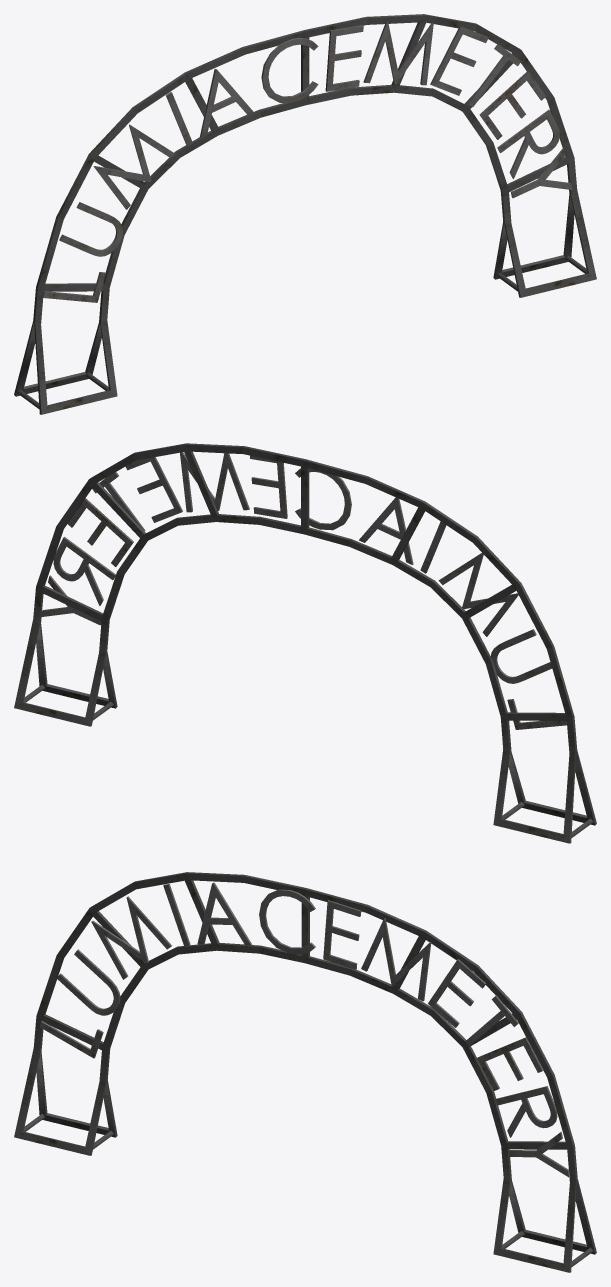
File: Bg_Cemetery_STR_TextDeco_Set.fbx
3 renders of one model, top to bottom at view 1: azimuth 30°, elevation 25°; view 2: azimuth 150°, elevation 25°; view 3: azimuth 330°, elevation 25°, orthographic.
Parts seen in each view (by area): view 1: Bg_Cemetery_STR_TextDeco_Set; view 2: Bg_Cemetery_STR_TextDeco_Set; view 3: Bg_Cemetery_STR_TextDeco_Set.
Part boxes in pixels (x1=…): Bg_Cemetery_STR_TextDeco_Set: x1=14, y1=14, x2=596, y2=414; Bg_Cemetery_STR_TextDeco_Set: x1=14, y1=443, x2=596, y2=843; Bg_Cemetery_STR_TextDeco_Set: x1=14, y1=872, x2=596, y2=1272.
Bounding box in the file's own units: 527 × 278 × 45.32.
Materials: 1 (1 with a texture image).
